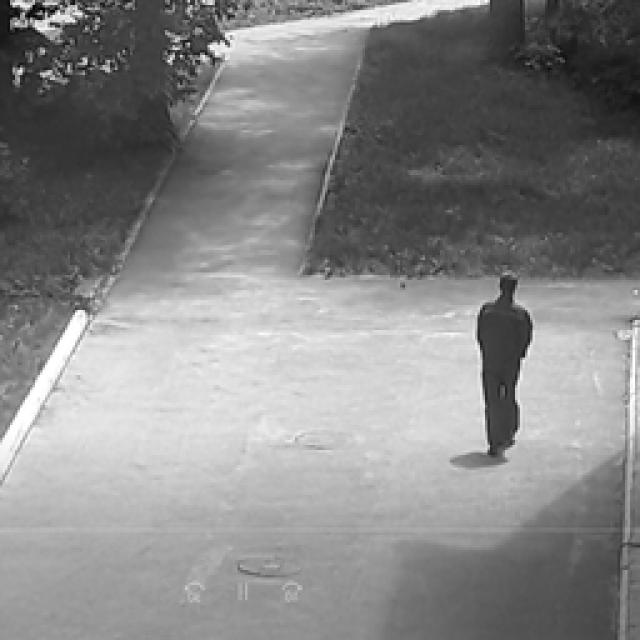Invader: (473, 268, 535, 458)
